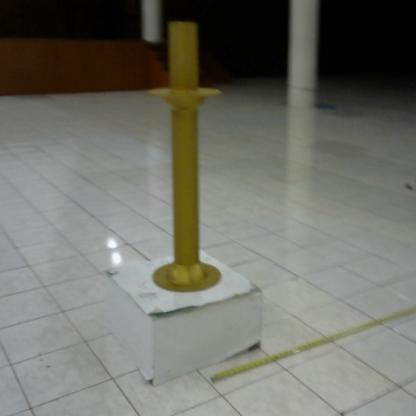pole: (138, 16, 231, 303)
